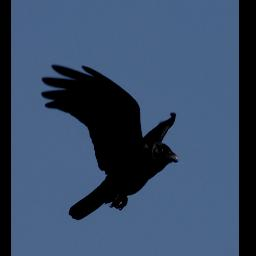Crow: (35, 58, 184, 232)
